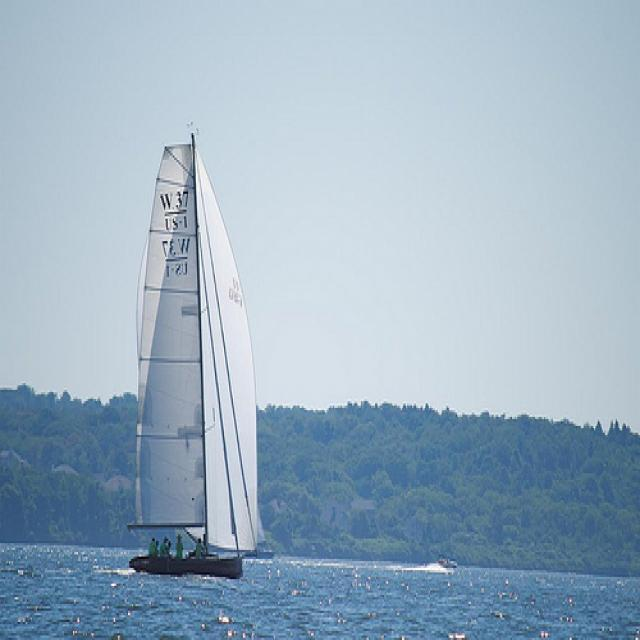Ship: (139, 144, 266, 580)
